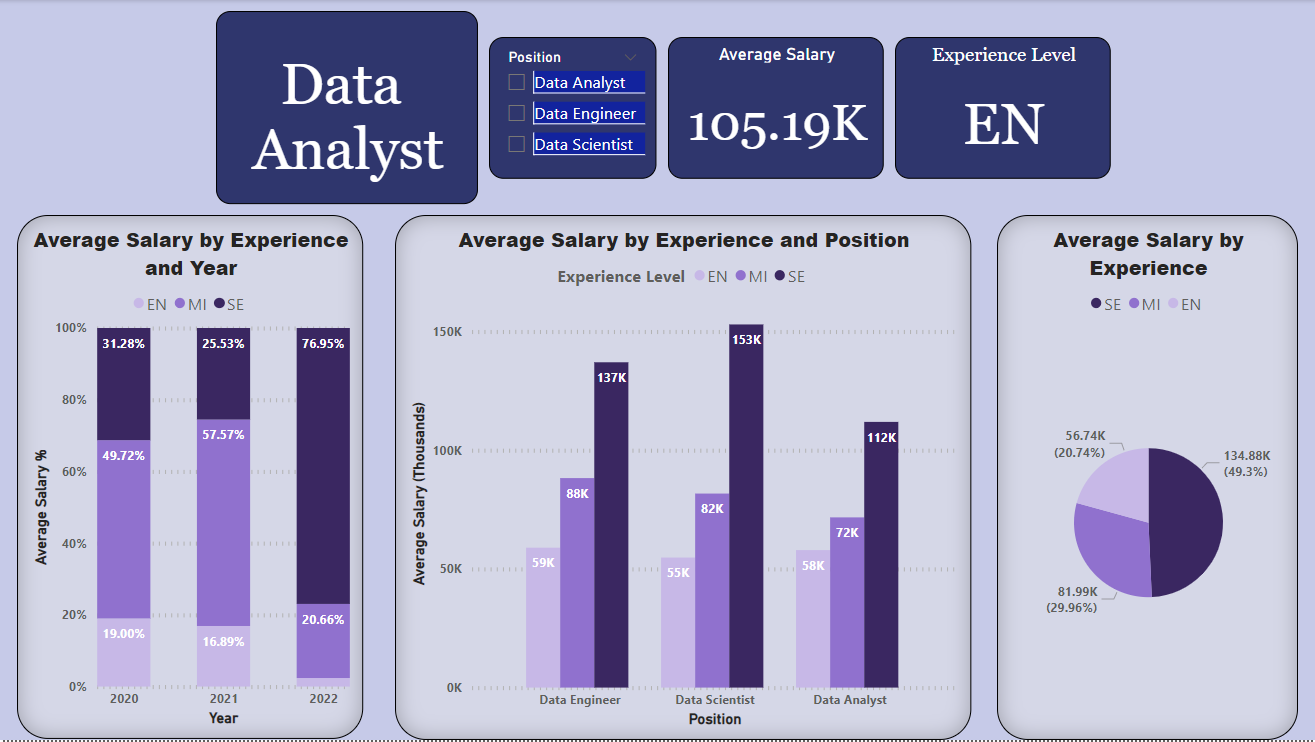

What the dashboard file says about the page in this screenshot:
{"tool":"powerbi","page":{"name":"Page 2","canvas":[1280,720],"ordinal":1},"visuals":[{"type":"clusteredColumnChart","title":"Average Salary by Experience and Position","fields":{"Category":["Sheet1.job_title"],"Y":["Avg(Sheet1.salary_in_usd)"],"Series":["Sheet1.experience_level"]},"box":[384.5,209,560.7,511],"z":0},{"type":"slicer","fields":{"Values":["Sheet1.job_title"]},"box":[476.3,36,162.6,138.2],"z":2000},{"type":"pieChart","title":"Average Salary by Experience","fields":{"Category":["Sheet1.experience_level"],"Y":["Avg(Sheet1.salary_in_usd)"]},"box":[970.5,209,293,511],"z":3000},{"type":"hundredPercentStackedColumnChart","title":"Average Salary by Experience and Year","fields":{"Category":["Sheet1.work_year"],"Series":["Sheet1.experience_level"],"Y":["Sum(Sheet1.salary_in_usd)"]},"box":[16.5,209.3,336.8,510.1],"z":4000},{"type":"card","fields":{"Values":["Min(Sheet1.job_title)"]},"box":[210.3,10.7,255,187.9],"z":5000},{"type":"card","title":"Average Salary","fields":{"Values":["Avg(Sheet1.salary_in_usd)"]},"box":[649.9,36,210.3,138.2],"z":6000},{"type":"card","title":"Experience Level","fields":{"Values":["Min(Sheet1.experience_level)"]},"box":[871.2,36,210.3,138.2],"z":7000}]}

Visuals, with their boxes in screenshot pixels (x1, y1, x2, y2), scaled from the page's 1280x720 canvas onto the 1315x742 screenshot:
"Average Salary by Experience and Position" clusteredColumnChart: [395,215,971,741]
slicer - Sheet1.job_title: [489,37,656,180]
"Average Salary by Experience" pieChart: [997,215,1298,741]
"Average Salary by Experience and Year" hundredPercentStackedColumnChart: [17,216,363,741]
card - Min(Sheet1.job_title): [216,11,478,205]
"Average Salary" card: [668,37,884,180]
"Experience Level" card: [895,37,1111,180]
